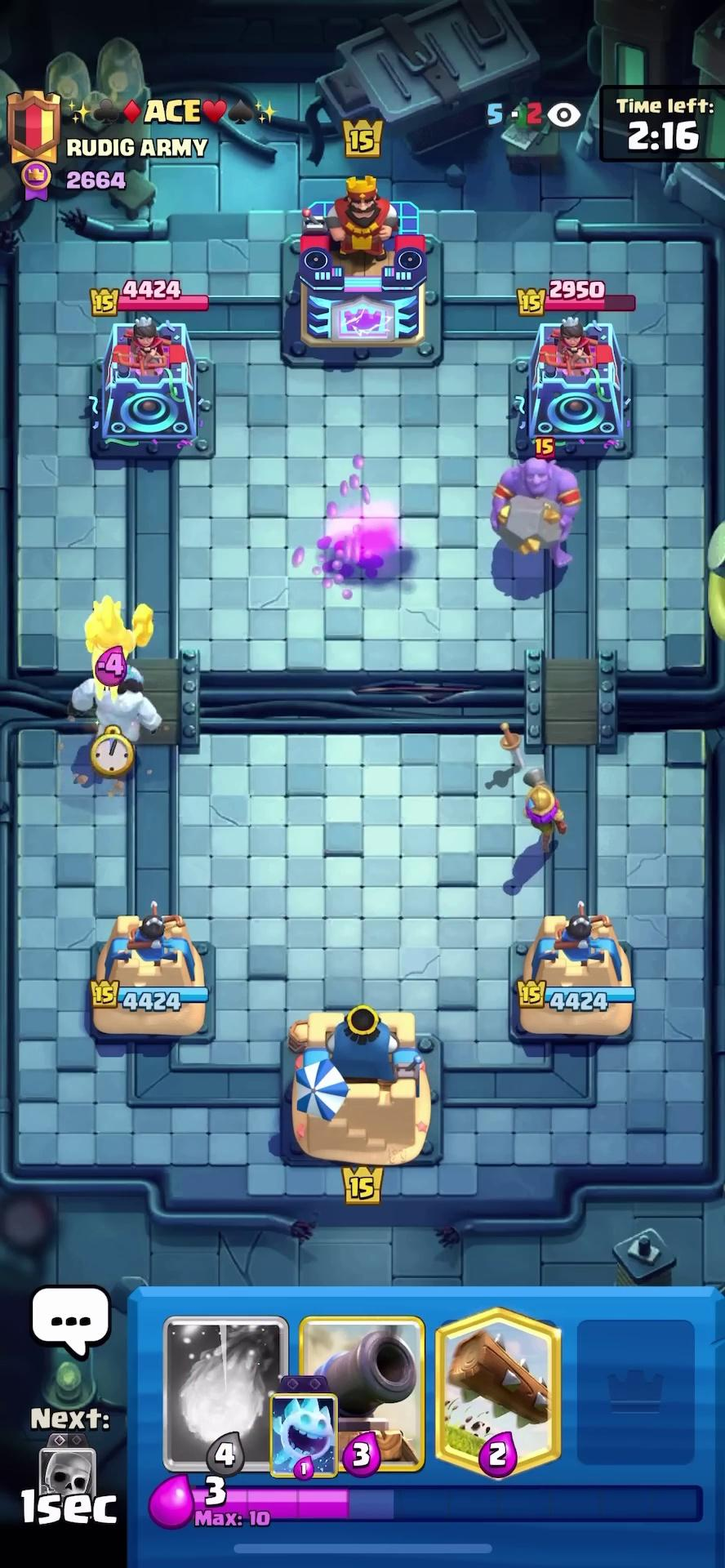hog_rider: (65, 592, 155, 684)
ice_golem: (76, 653, 157, 737)
musketeer: (510, 768, 576, 843)
